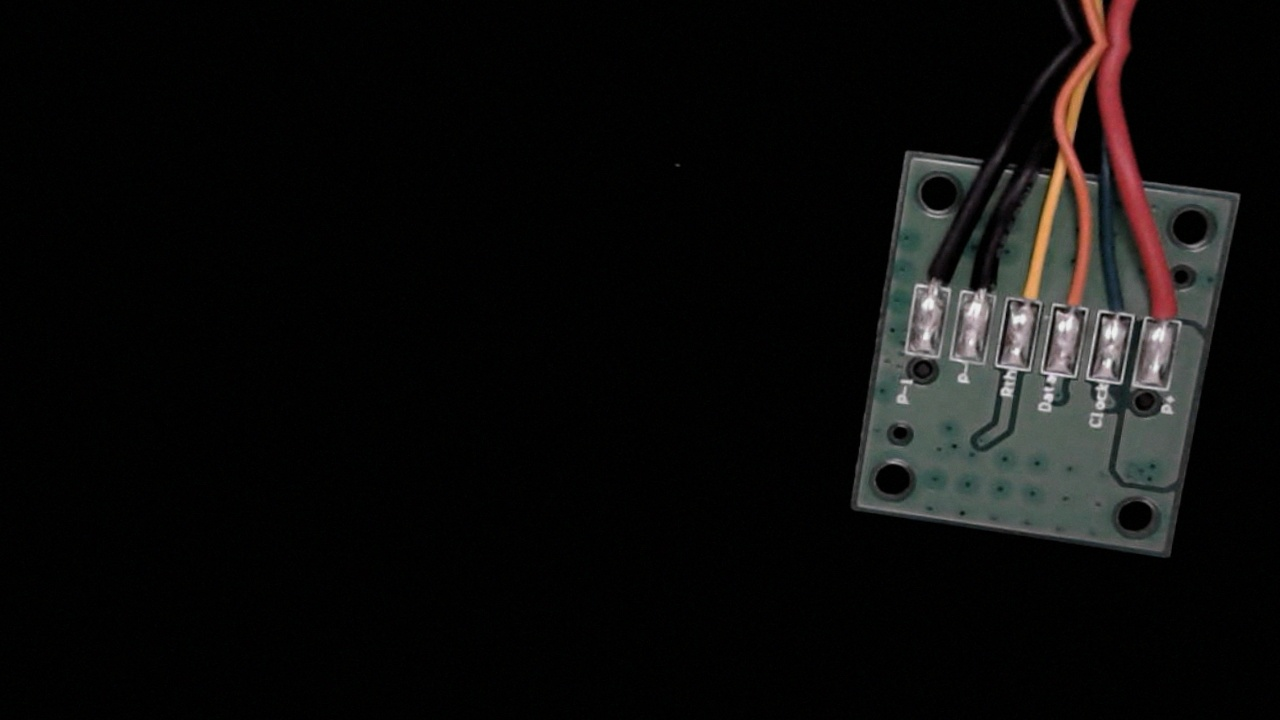Black: (957, 234, 1006, 319)
Black1: (912, 236, 959, 309)
Green: (1097, 268, 1142, 338)
Orange: (1049, 257, 1095, 334)
Red: (1139, 267, 1189, 348)
Yellow: (1004, 240, 1050, 327)
